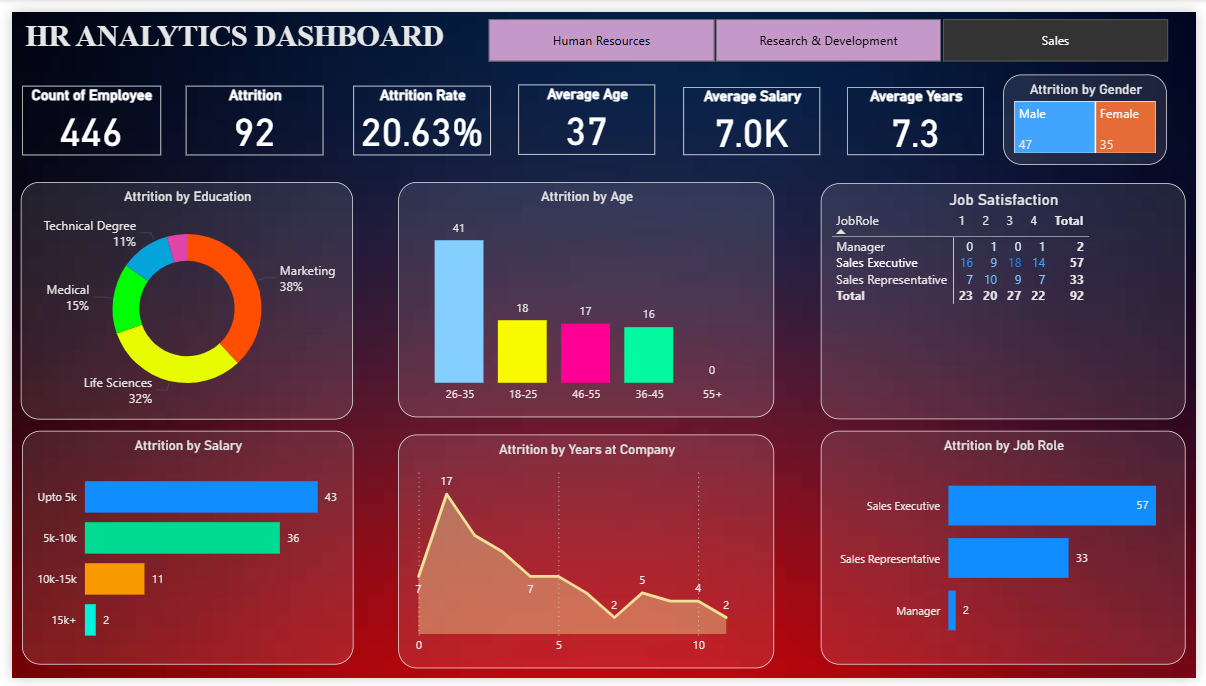

The page's visual inventory and layout, read from the dashboard file:
{"tool":"powerbi","page":{"name":"Page 1","canvas":[1280,720],"ordinal":0},"visuals":[{"type":"card","title":"Count of Employee","fields":{"Values":["CountNonNull(HR_Analytics.EmpID)"]},"box":[10.3,79.1,150,75],"z":0},{"type":"card","title":"Attrition","fields":{"Values":["select","Sum(HR_Analytics.AttritionCount)"]},"box":[187.8,79.1,149,75.5],"z":1000},{"type":"card","title":"Attrition Rate","fields":{"Values":["HR_Analytics.AttritionRate"]},"box":[369.5,79.1,149,75.5],"z":2000},{"type":"card","title":"Average Age","fields":{"Values":["Avg(HR_Analytics.Age)"]},"box":[546.8,79,148.4,76],"z":3000},{"type":"card","title":"Average Years","fields":{"Values":["Avg(HR_Analytics.YearsAtCompany)"]},"box":[902.7,81.4,148.4,73.6],"z":4000},{"type":"card","title":"Average Salary","fields":{"Values":["Avg(HR_Analytics.MonthlyIncome)"]},"box":[725.4,81.4,148.4,73.6],"z":5000},{"type":"donutChart","title":"Attrition by Education","fields":{"Category":["HR_Analytics.EducationField"],"Y":["Sum(HR_Analytics.AttritionCount)"]},"box":[9.5,183.8,359.5,256.8],"z":6000},{"type":"columnChart","title":"Attrition by Age","fields":{"Category":["HR_Analytics.AgeGroup"],"Y":["Sum(HR_Analytics.AttritionCount)"]},"box":[417.6,183.8,406.8,254.1],"z":7000},{"type":"pivotTable","title":"Job Satisfaction","fields":{"Rows":["HR_Analytics.JobRole"],"Columns":["HR_Analytics.JobSatisfaction"],"Values":["Sum(HR_Analytics.AttritionCount)"]},"box":[874.3,185.1,394.6,255.4],"z":8000},{"type":"barChart","title":"Attrition by Salary","fields":{"Category":["HR_Analytics.SalarySlab"],"Y":["Sum(HR_Analytics.AttritionCount)"]},"box":[10.8,452.7,358.1,252.7],"z":9000},{"type":"barChart","title":"Attrition by Job Role","fields":{"Y":["Sum(HR_Analytics.AttritionCount)"],"Category":["HR_Analytics.JobRole"]},"box":[874.3,452.7,394.6,252.7],"z":10000},{"type":"areaChart","title":"Attrition by Years at Company","fields":{"Category":["HR_Analytics.YearsAtCompany"],"Y":["Sum(HR_Analytics.AttritionCount)"]},"box":[417.6,456.8,406.8,252.7],"z":11000},{"type":"treemap","title":"Attrition by Gender","fields":{"Group":["HR_Analytics.Gender"],"Values":["Sum(HR_Analytics.AttritionCount)"]},"box":[1071.6,67.6,177,97.3],"z":12000},{"type":"slicer","fields":{"Values":["HR_Analytics.Department"]},"box":[494.6,5.4,774.3,50],"z":13000},{"type":"textbox","box":[9.5,2.7,508.1,64.9],"z":14000}]}

Visuals, with their boxes in screenshot pixels (x1, y1, x2, y2), scaled from the page's 1280x720 canvas onto the 1206x686 screenshot:
"Count of Employee" card: (10,75,151,147)
"Attrition" card: (177,75,317,147)
"Attrition Rate" card: (348,75,489,147)
"Average Age" card: (515,75,655,148)
"Average Years" card: (851,78,990,148)
"Average Salary" card: (683,78,823,148)
"Attrition by Education" donutChart: (9,175,348,420)
"Attrition by Age" columnChart: (393,175,777,417)
"Job Satisfaction" pivotTable: (824,176,1196,420)
"Attrition by Salary" barChart: (10,431,348,672)
"Attrition by Job Role" barChart: (824,431,1196,672)
"Attrition by Years at Company" areaChart: (393,435,777,676)
"Attrition by Gender" treemap: (1010,64,1176,157)
slicer - HR_Analytics.Department: (466,5,1196,53)
textbox: (9,3,488,64)
